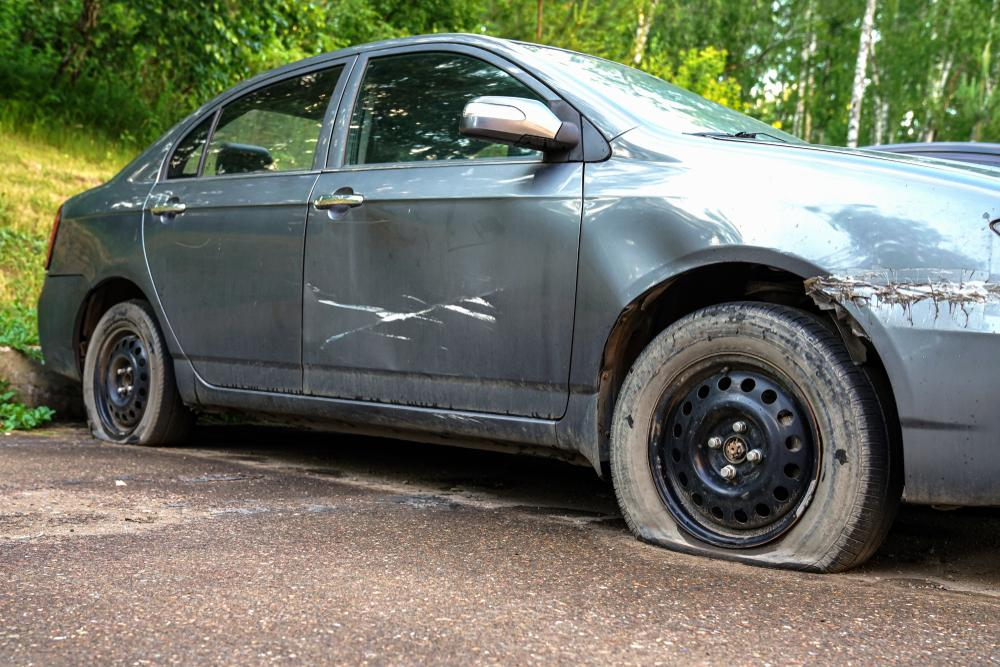dent: (603, 203, 696, 298)
scratch: (313, 283, 507, 346)
tire flat: (610, 302, 897, 574), (83, 294, 178, 448)
